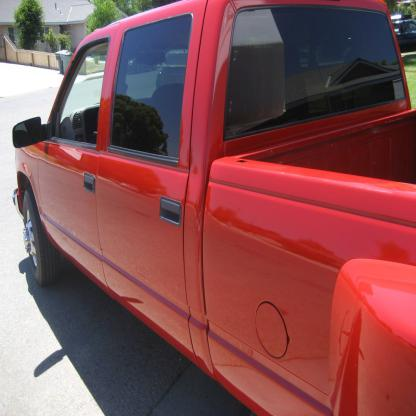Truck: (12, 0, 415, 415)
